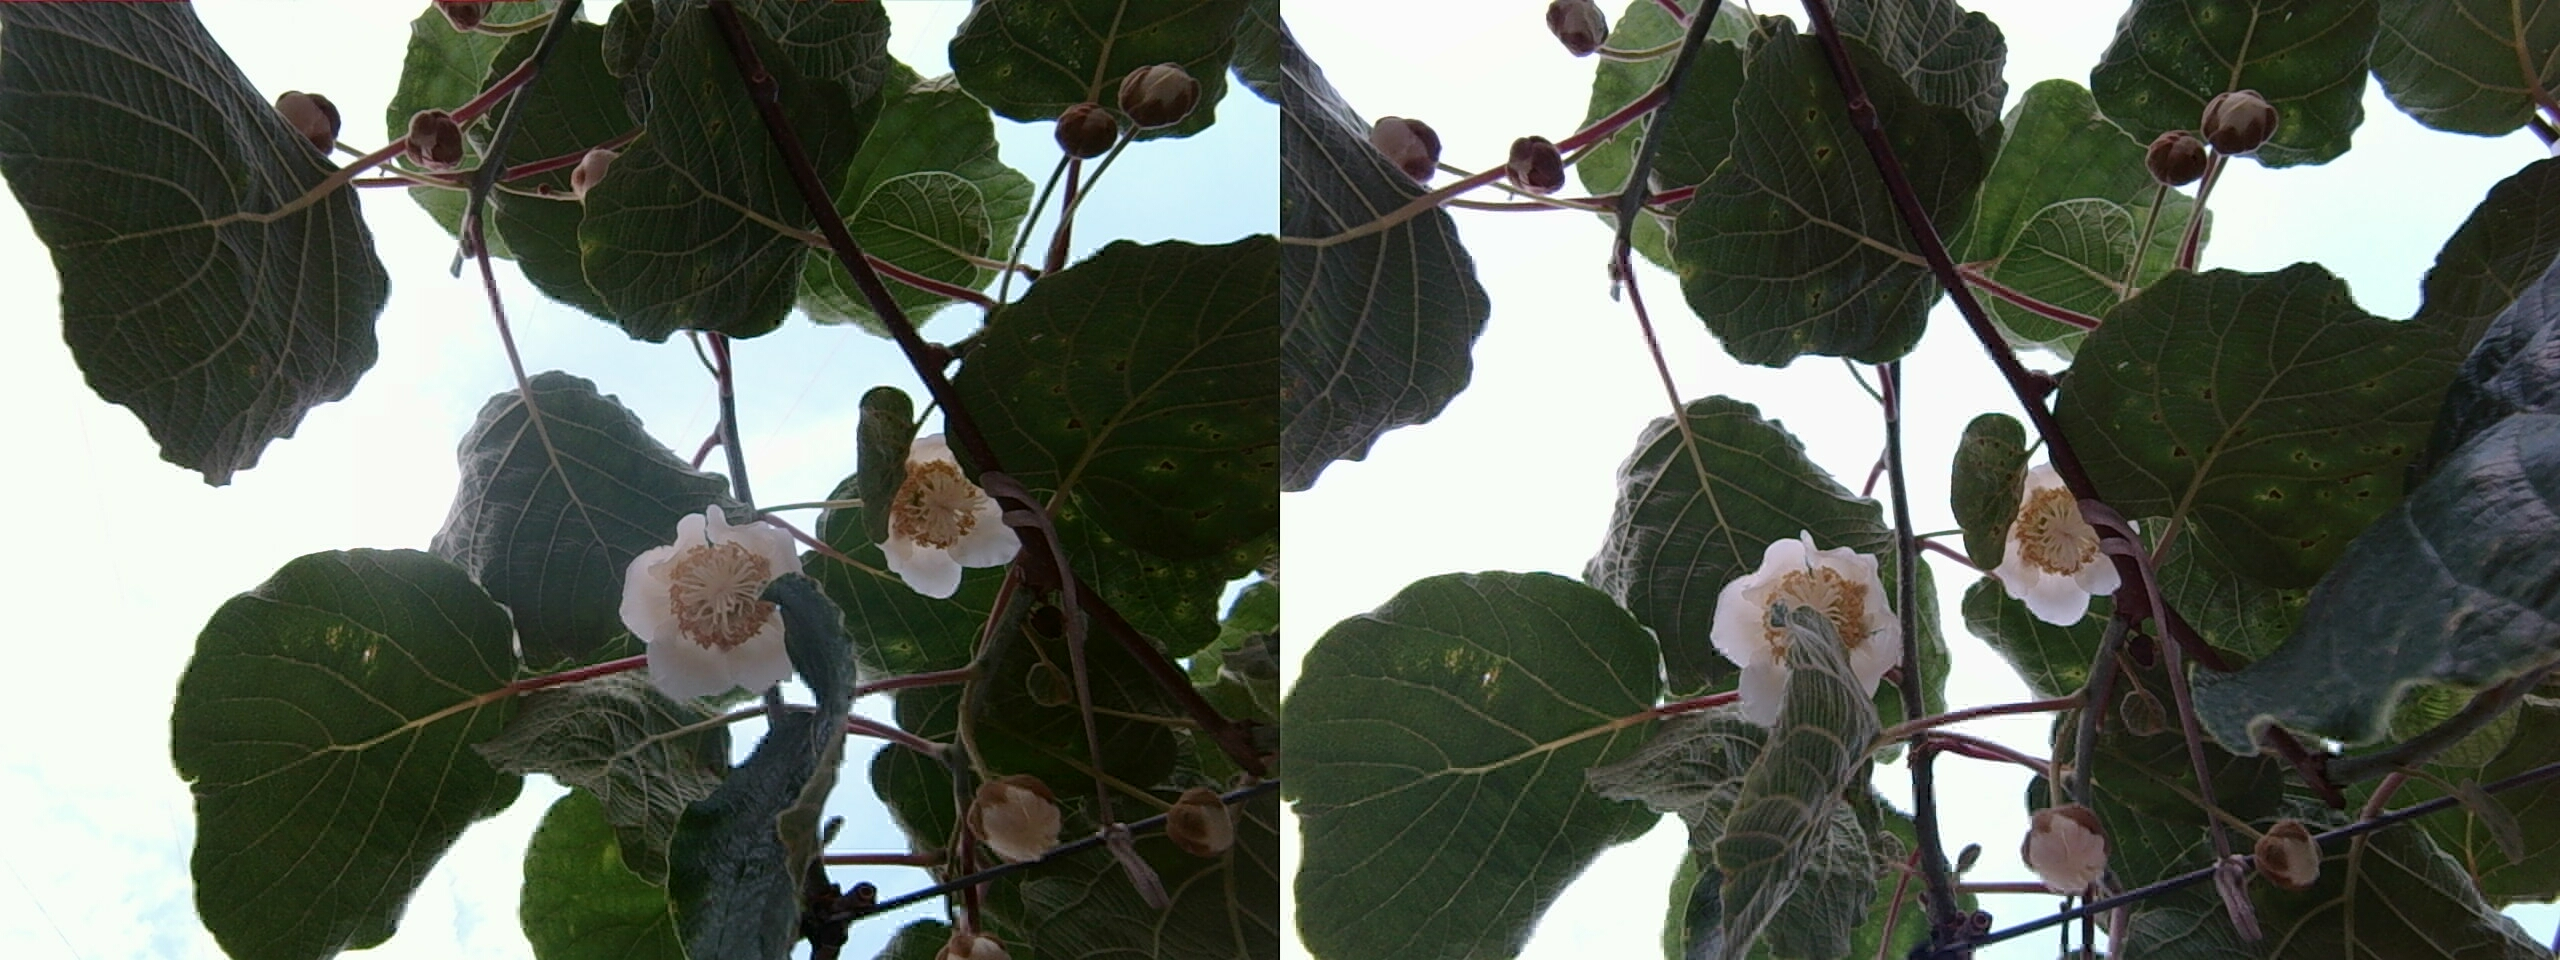flower: (614, 501, 810, 699), (1714, 531, 1897, 705), (856, 433, 1019, 593), (1972, 457, 2113, 620)
